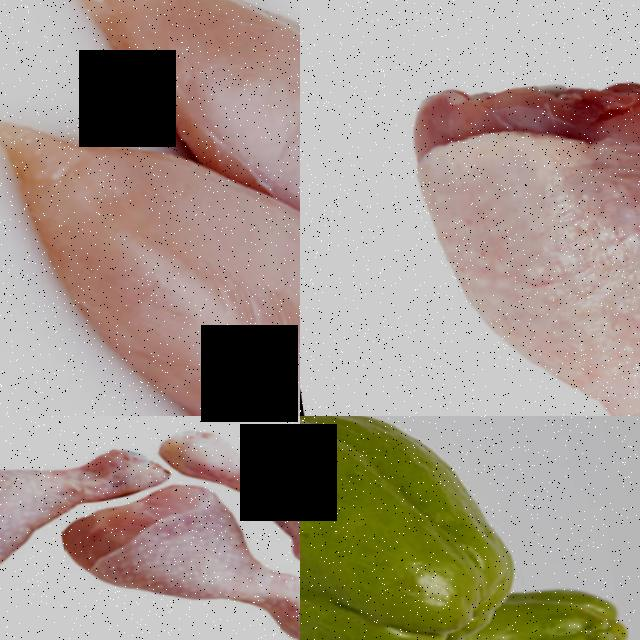chayote: (300, 416, 475, 640)
chicken breast: (98, 0, 300, 187), (81, 263, 300, 416)
chicken thigh: (378, 53, 640, 416), (68, 482, 300, 640), (166, 416, 300, 584), (0, 441, 140, 583)
